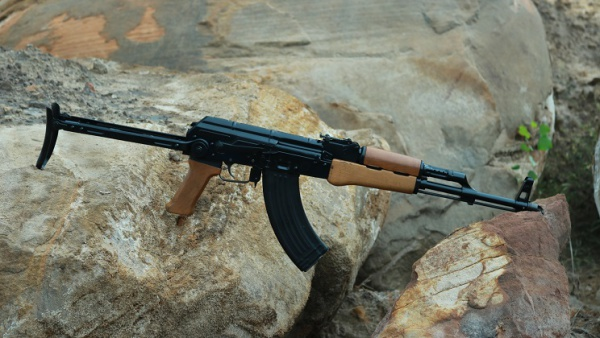ak47: (36, 109, 541, 269)
